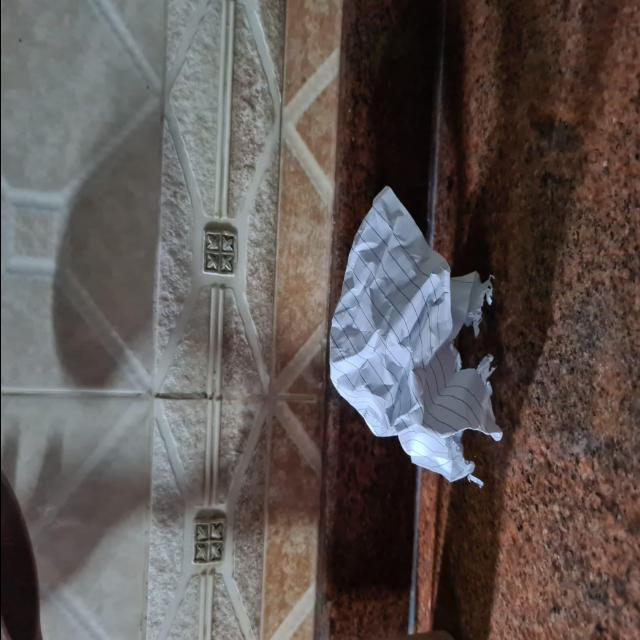kertas: (330, 191, 492, 488)
